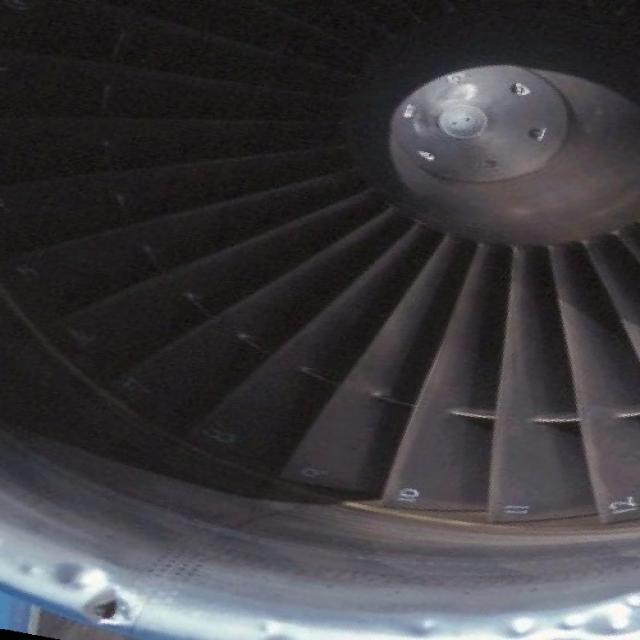dent: (27, 564, 154, 630)
